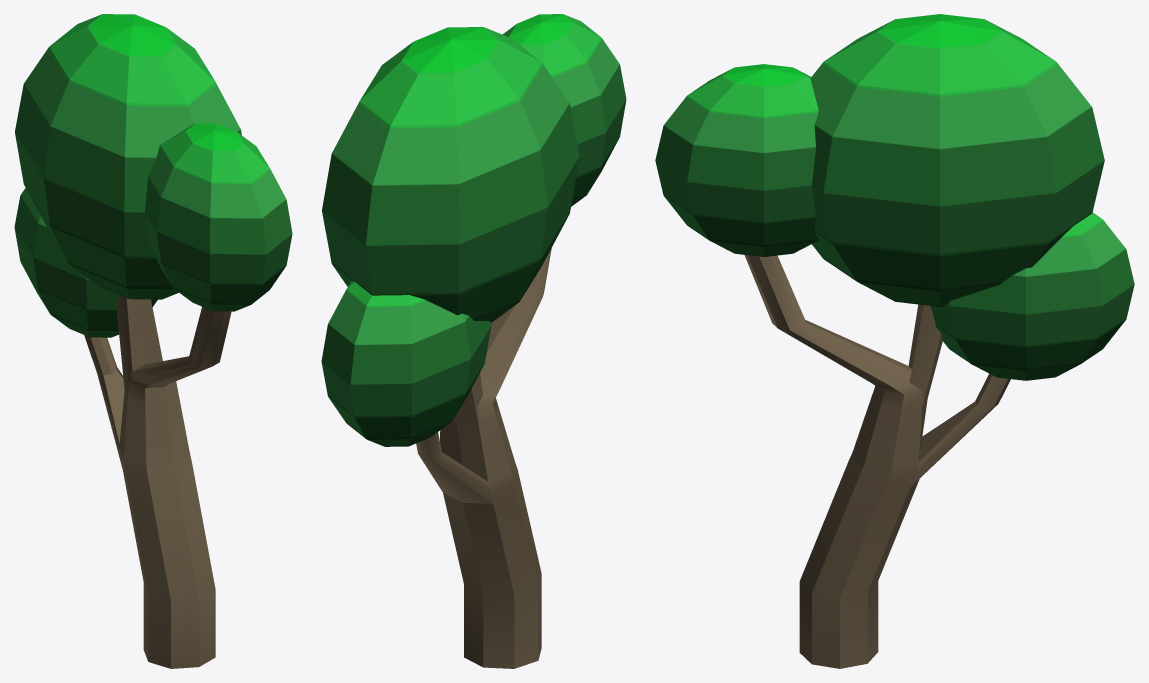
File: tree-3.fbx
3 views of the same model, side by side, from view 1: azimuth 30°, elevation 25°; view 2: azimuth 150°, elevation 25°; view 3: azimuth 270°, elevation 25° (orthographic). The views are drawn at different scales.
Visible parts, largest first — view 1: pSphere14; view 2: pSphere14; view 3: pSphere14.
Part boxes in pixels (<box>): pSphere14: <box>14,14,292,668</box>; pSphere14: <box>321,14,626,668</box>; pSphere14: <box>655,14,1134,668</box>.
Bounding box in the file's own units: 5.54 × 17.69 × 12.17.
Materials: 2 (1 with a texture image).
